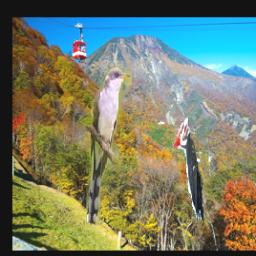Cuckoo: (86, 67, 130, 227)
Woodpecker: (173, 111, 204, 223)
